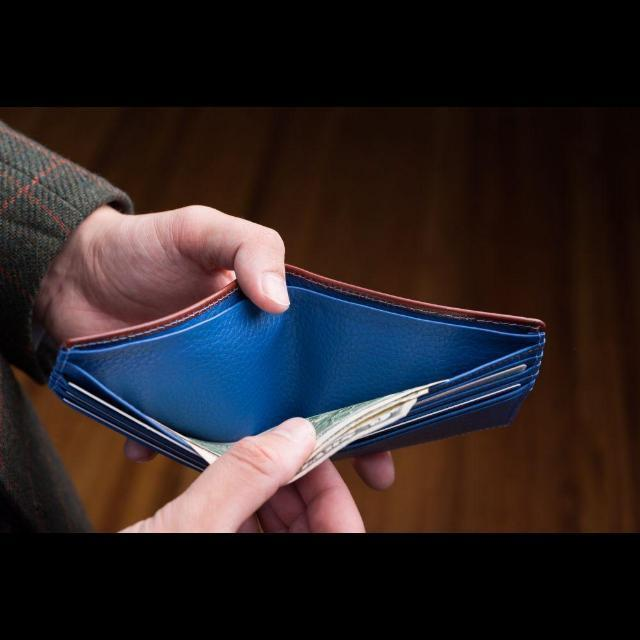wallet: (38, 258, 546, 480)
